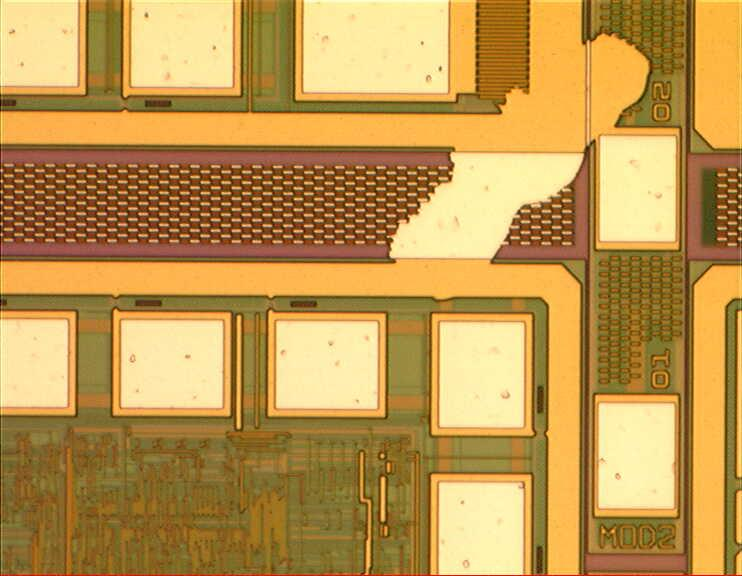BLOCK ETCH: (386, 34, 654, 303)
